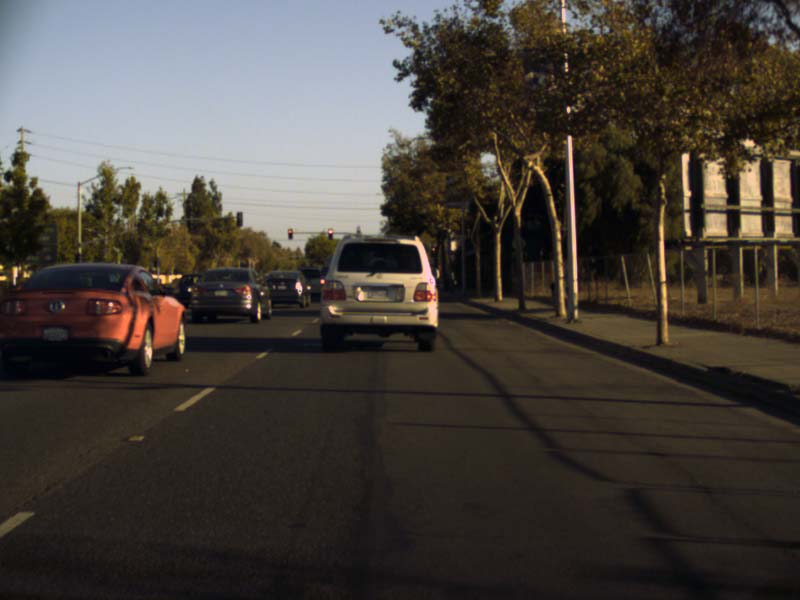Red: (327, 229, 332, 239), (287, 229, 291, 239), (430, 246, 434, 255)
